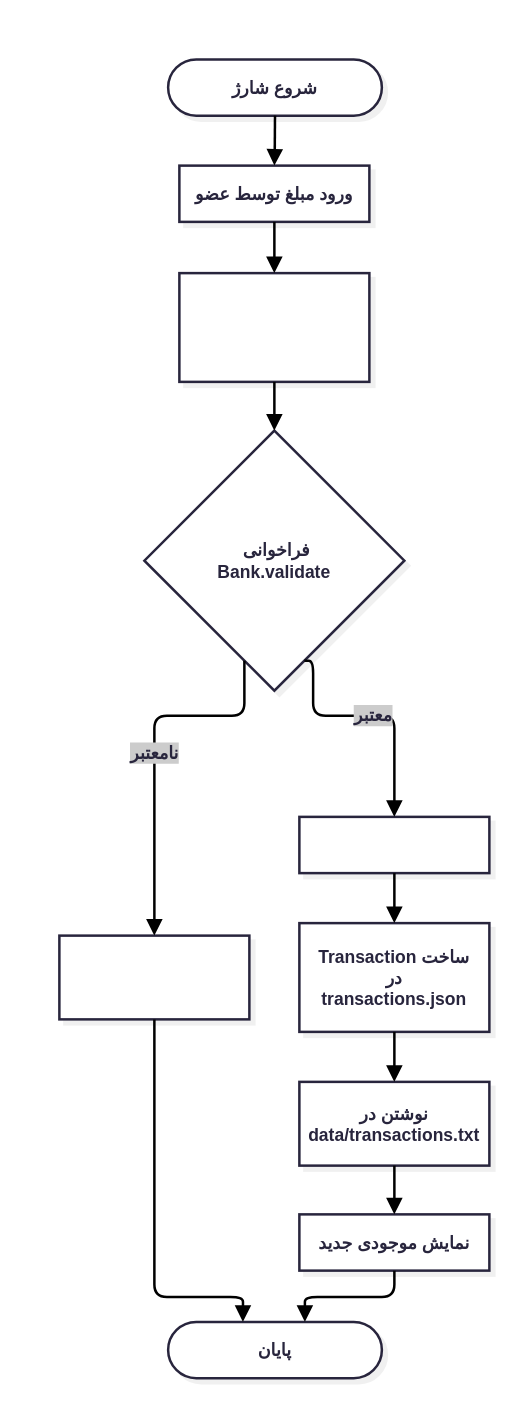
The diagram is 516 pixels wide and 1405 high, and some of its shapes have lost their labels. The centre of each missing label's shape, as x and y in pixels:
"افزایش موجودی کیف پول" belongs at point 396,847.
"ورود اطلاعات کارت شماره / ماه / سال / PIN / CVV2" belongs at point 276,329.
"پیام: اطلاعات کارت نامعتبر" belongs at point 156,979.
